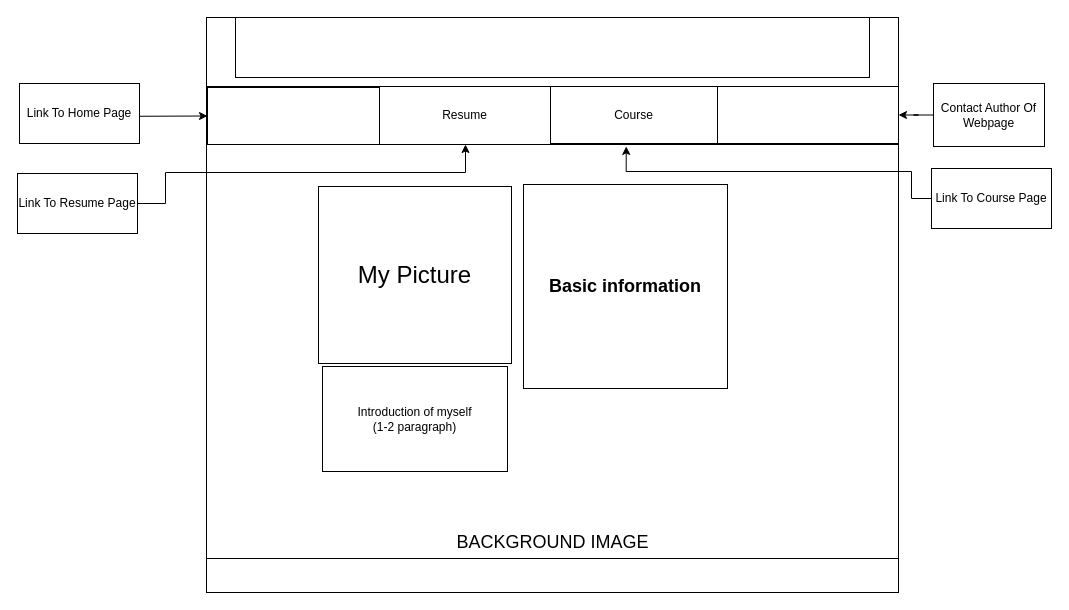
The diagram is 1069 pixels wide and 610 high, and some of its shapes have lost their labels. Here are the shapes that lost their labels. From the top down, the centre of each, then its label:
(x=552, y=47): Header information
(x=293, y=115): Home
(x=807, y=115): Contact
(x=552, y=575): Footer
